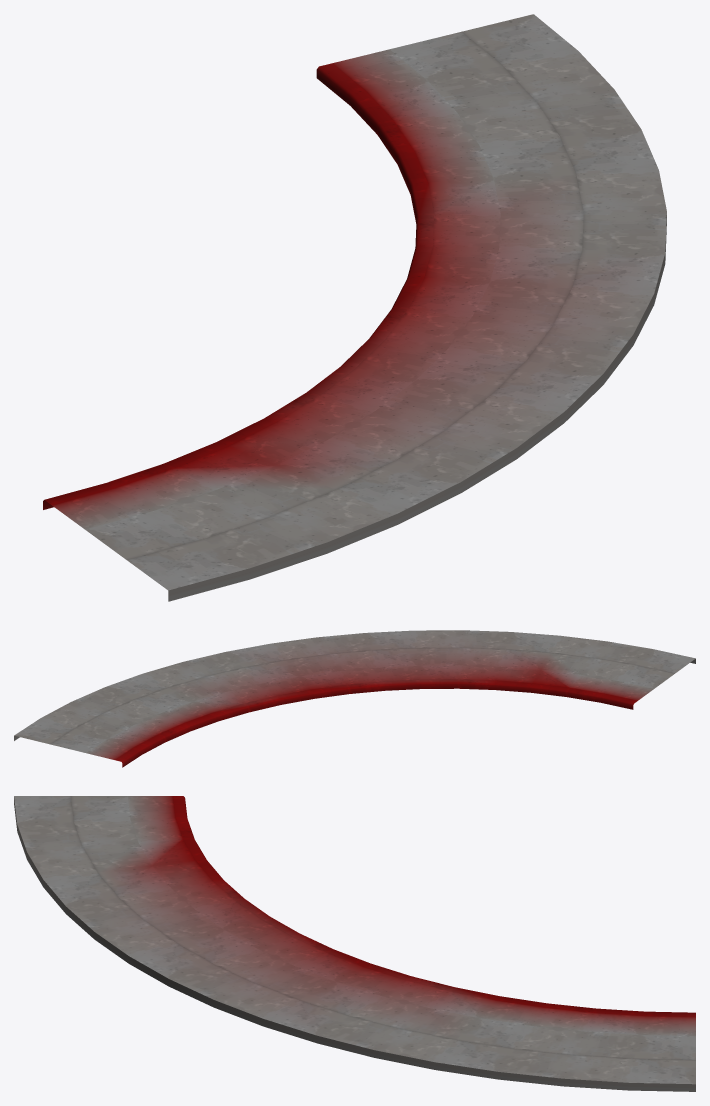
File: Street_Curve_2Lane_Curb.gltf
The picture shows the model from 3 angles, top to bottom: view 1: azimuth 30°, elevation 25°; view 2: azimuth 150°, elevation 25°; view 3: azimuth 270°, elevation 25°; orthographic projection. The views are drawn at different scales.
Visible parts, largest first — view 1: Street_Curve_2Lane_Curb; view 2: Street_Curve_2Lane_Curb; view 3: Street_Curve_2Lane_Curb.
Boxes of the visible parts, left/top/right/bottom form: Street_Curve_2Lane_Curb: left=43, top=14, right=666, bottom=601; Street_Curve_2Lane_Curb: left=14, top=630, right=695, bottom=767; Street_Curve_2Lane_Curb: left=14, top=796, right=695, bottom=1091.
Bounding box in the file's own units: 12 × 0.15 × 12.
Materials: 1 (1 with a texture image).
